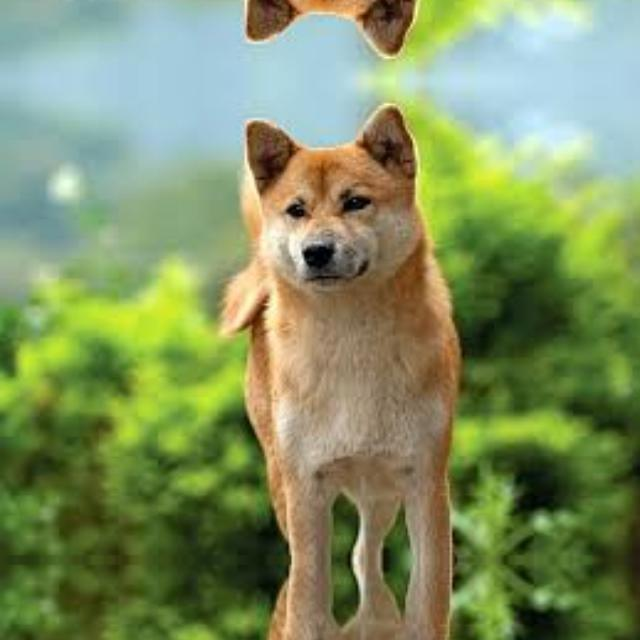dog: (235, 99, 481, 559), (235, 559, 481, 640), (235, 0, 481, 61)
